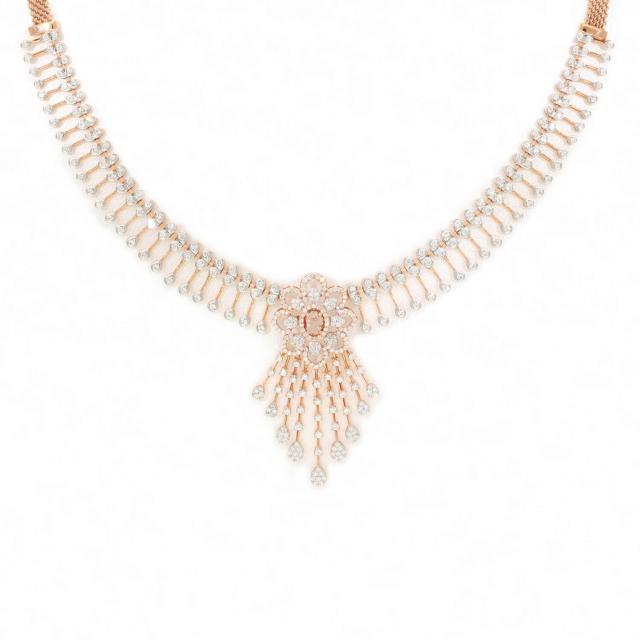missing gem: (306, 311, 324, 335)
